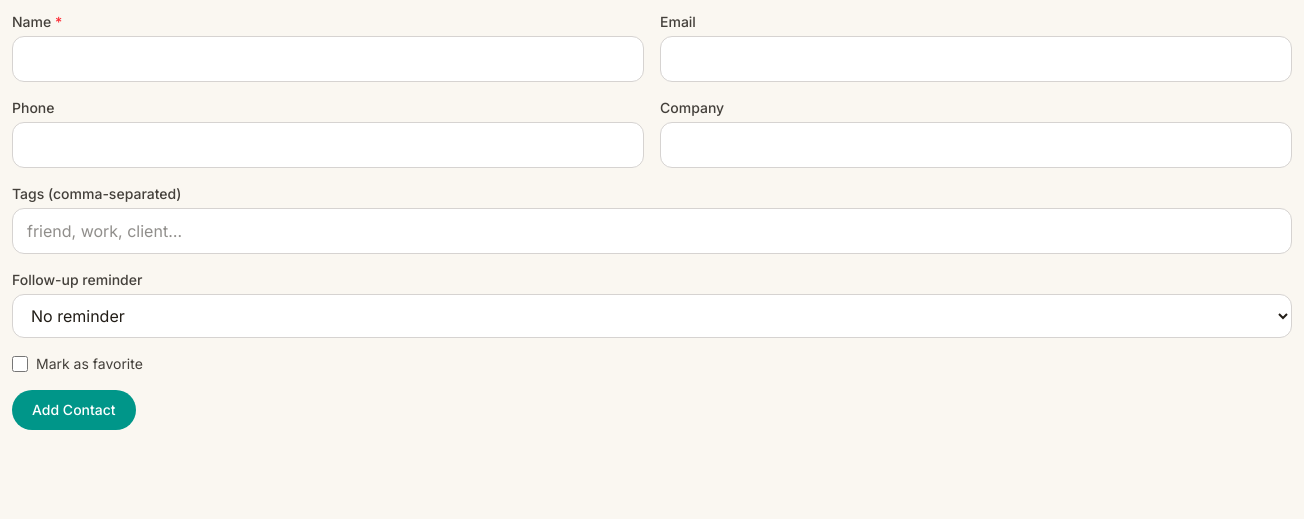
Test case: ContactForm › shows field errors returned by the server action
Click the button "Add Contact" at (74, 410), box [12, 390, 136, 430]
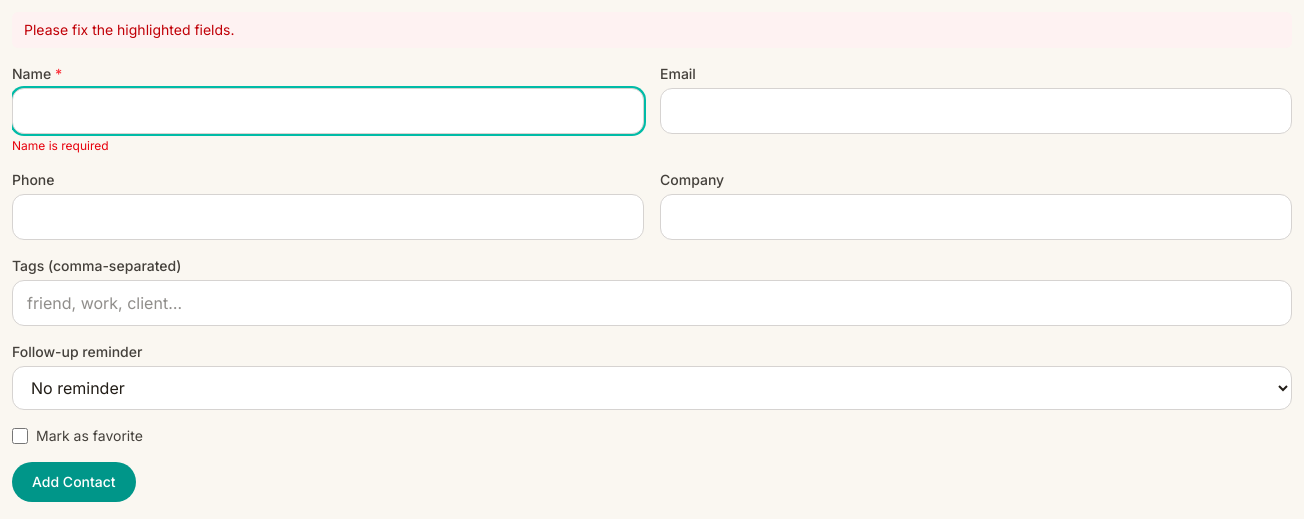
Expected: the text "Please fix the highlighted fields." is shown, [12, 12, 1292, 48]
Expected: the text "Name is required" is shown, [12, 138, 109, 153]
